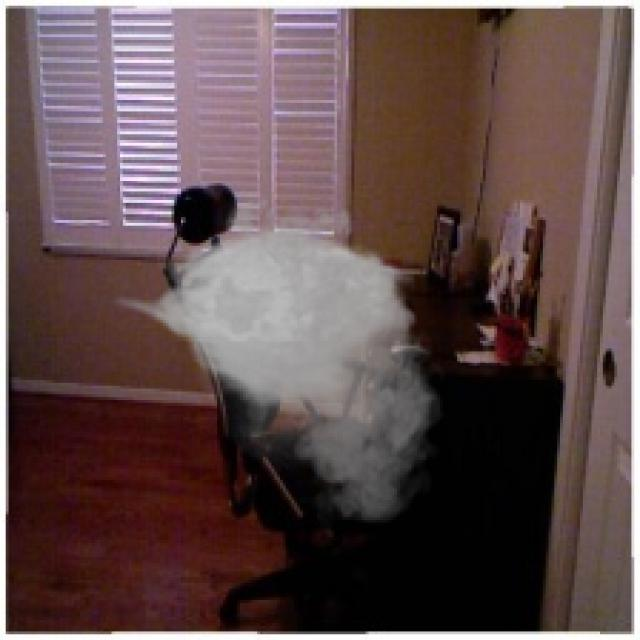smoke: (109, 186, 452, 528)
